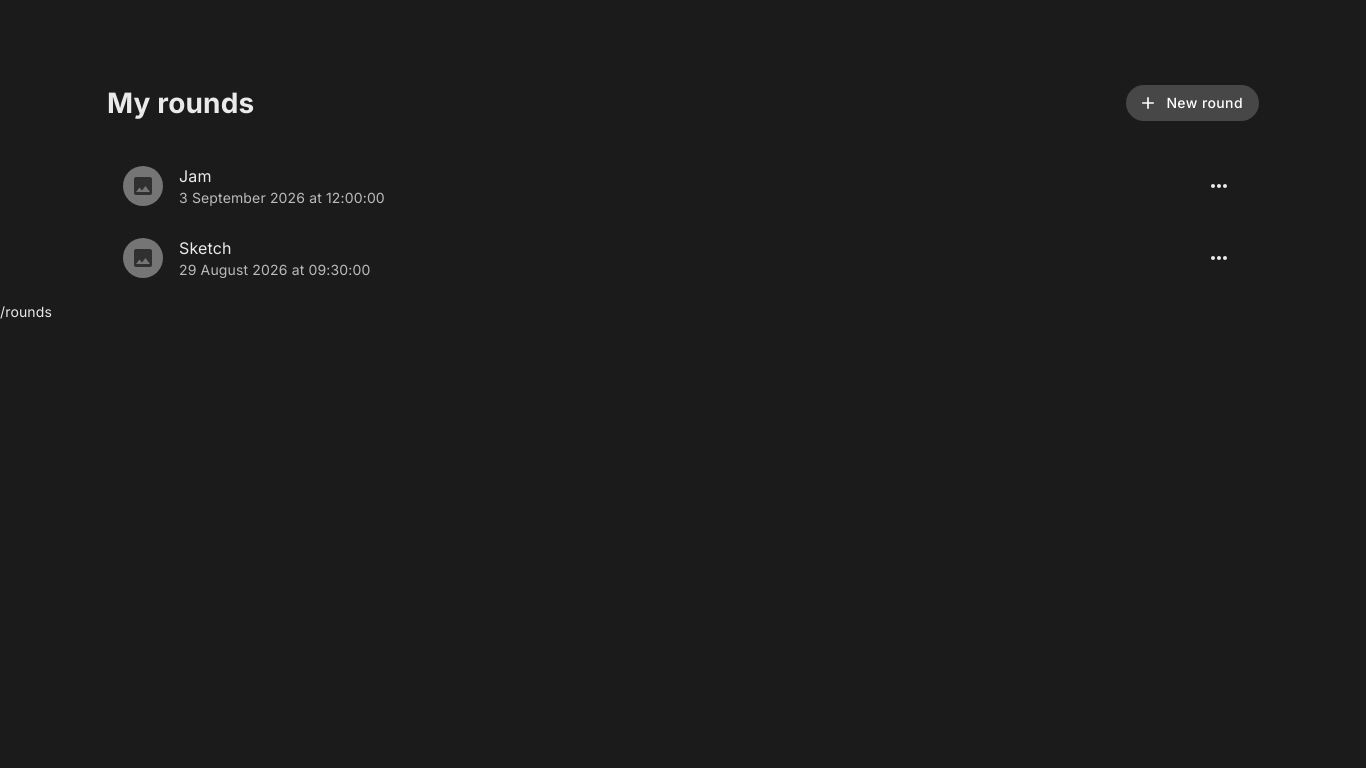
Test: RoundsListRoute › opens the rename dialog for the round whose menu it was
Click the 1st button named "Round options". click: coordinates (1219, 186)
box: 1195,162 -> 1243,210
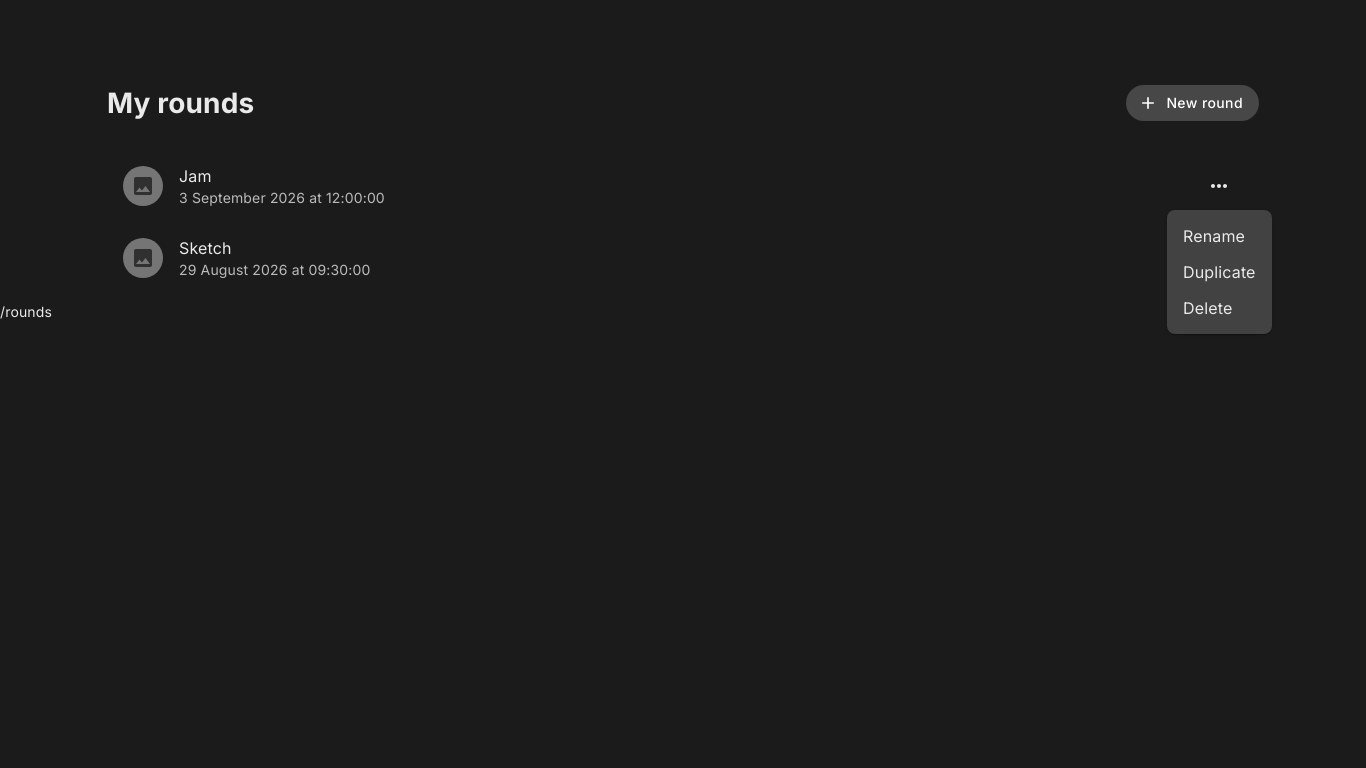
Check: the menu is shown, box 1167,210 -> 1272,334
Click the menu item "Rename". click: coordinates (1219, 236)
box: 1167,218 -> 1272,254
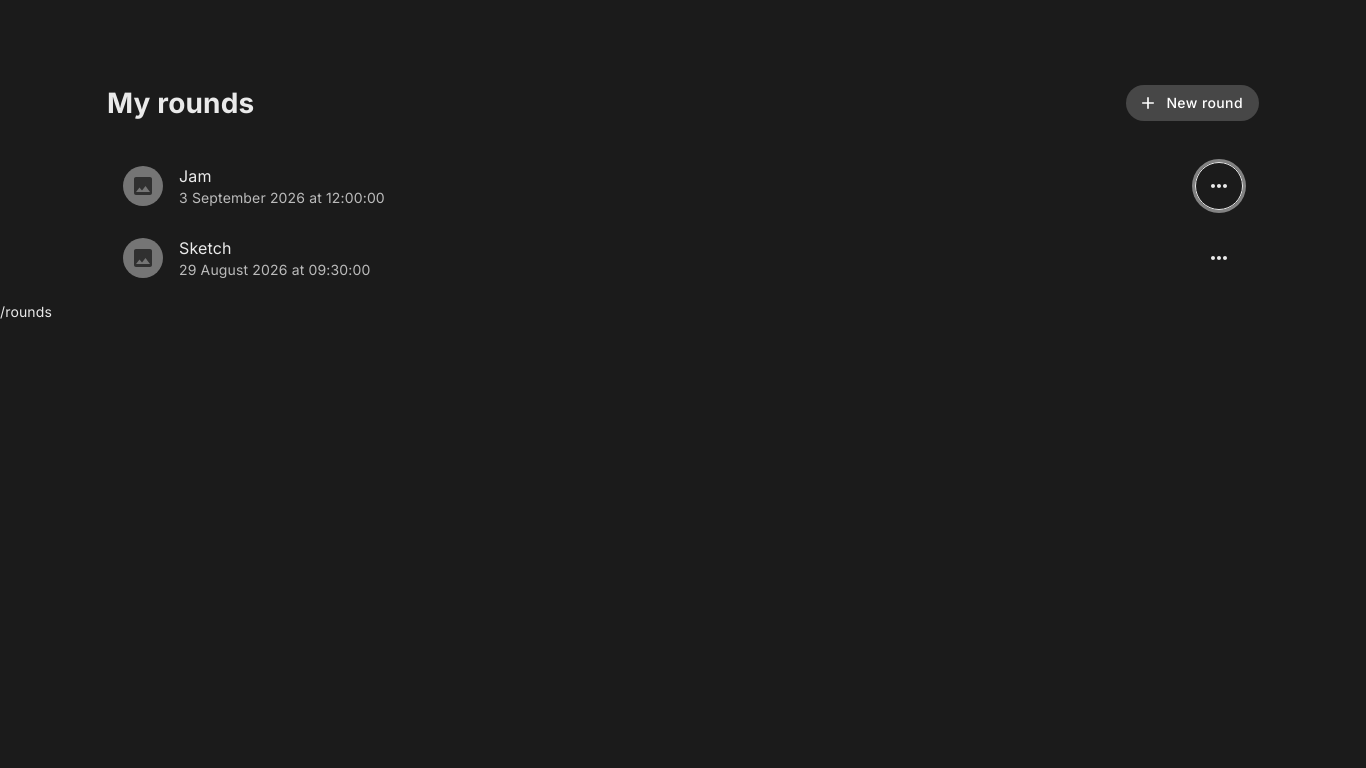
Check: the menu is gone
